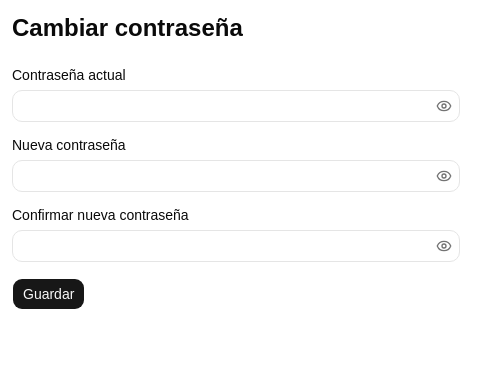
ChangePasswordPage › shows validation error for short new password
Type "oldpass123" into the password field labelled "Contraseña actual".
click(236, 106); type("oldpass123")  # box left=12, top=90, right=460, bottom=122
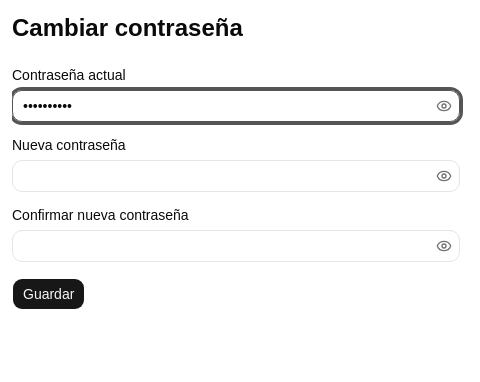
Type "short" into the password field labelled "Nueva contraseña".
click(236, 176); type("short")  # box left=12, top=160, right=460, bottom=192
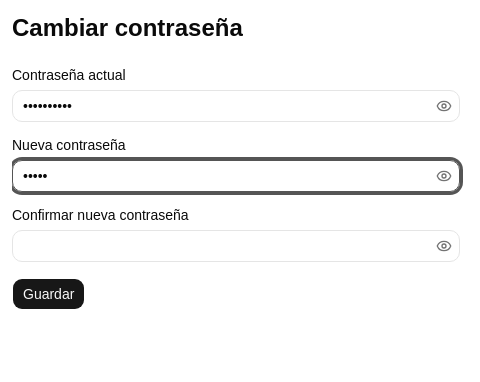
Click the button "Guardar".
click(49, 294)  # box left=12, top=278, right=85, bottom=310
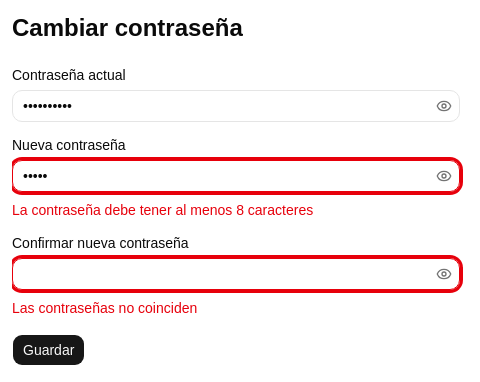
Expected: the text "La contraseña debe tener al menos 8 caracteres" is shown, left=12, top=202, right=313, bottom=218
